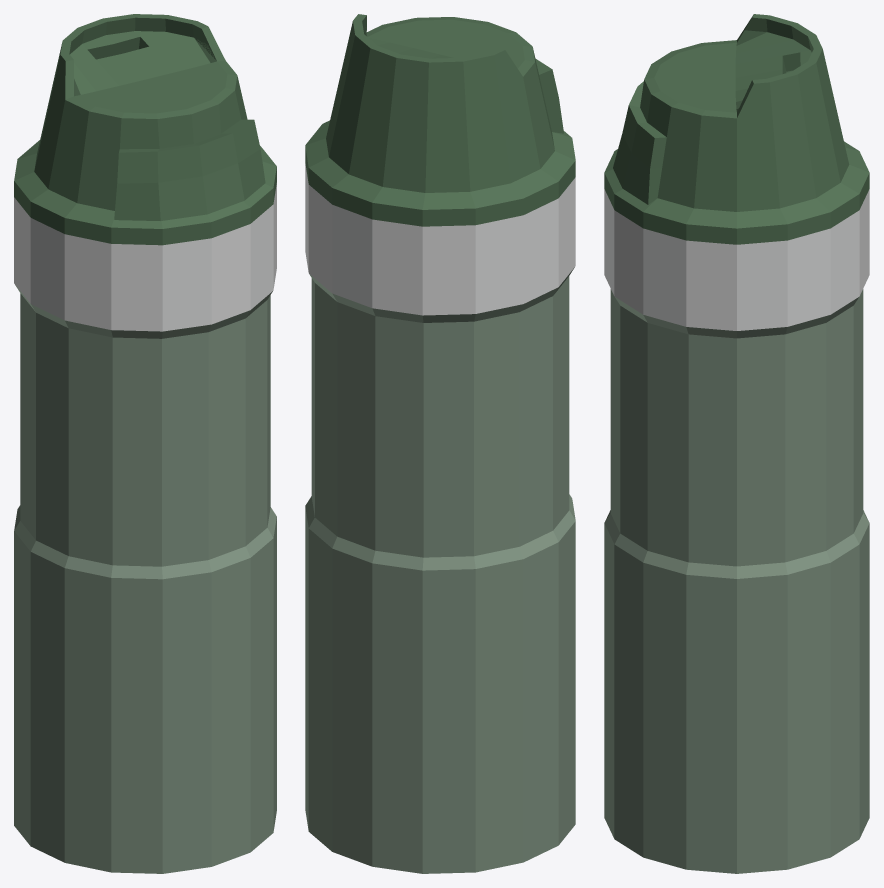
The model's file is thermos.fbx.
3 views of the same model, side by side, from view 1: azimuth 30°, elevation 25°; view 2: azimuth 150°, elevation 25°; view 3: azimuth 270°, elevation 25° (orthographic). The views are drawn at different scales.
Visible parts, largest first — view 1: Termos; view 2: Termos; view 3: Termos.
Part boxes in pixels (left/top/right/bottom): Termos: left=14, top=14, right=276, bottom=873; Termos: left=305, top=14, right=575, bottom=873; Termos: left=604, top=14, right=869, bottom=873.
Bounding box in the file's own units: 223 × 715 × 223.
